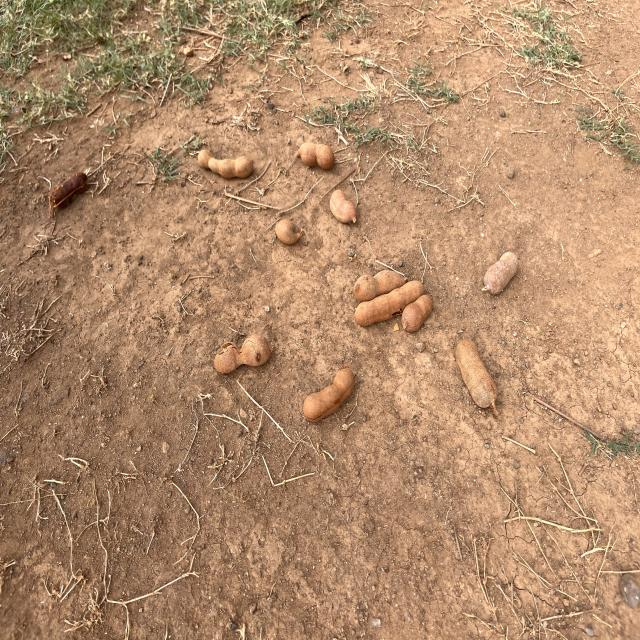tamarind: (454, 337, 496, 411), (356, 280, 424, 324), (304, 365, 354, 420), (213, 333, 272, 374), (198, 148, 255, 179), (354, 269, 407, 302), (484, 253, 520, 296), (403, 295, 433, 334), (299, 142, 336, 170), (331, 188, 357, 223), (276, 219, 304, 247)
